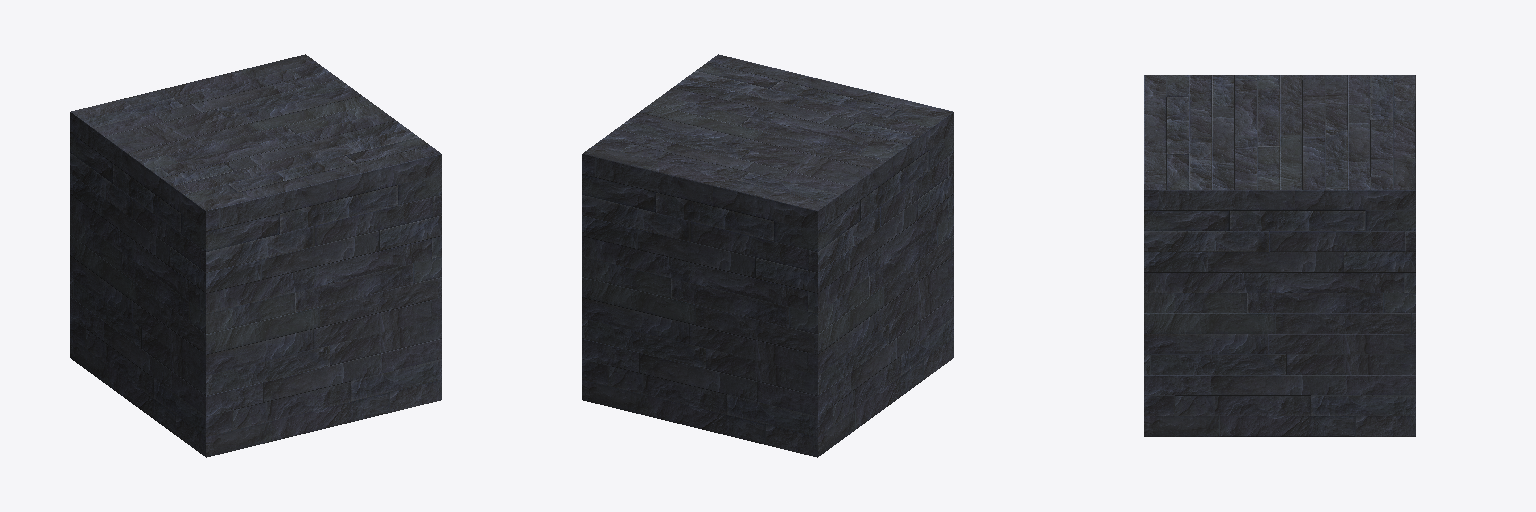
The picture shows the model from 3 angles: view 1: azimuth 30°, elevation 25°; view 2: azimuth 150°, elevation 25°; view 3: azimuth 270°, elevation 25°; orthographic projection.
Parts seen in each view (by area): view 1: Cube_Cube.001; view 2: Cube_Cube.001; view 3: Cube_Cube.001.
Part boxes in pixels (x1,y1,x2,y2): Cube_Cube.001: (70,54,441,457); Cube_Cube.001: (582,54,953,457); Cube_Cube.001: (1144,75,1415,436).
Bounding box in the file's own units: 2 × 2 × 2.
1 materials, 1 textured.